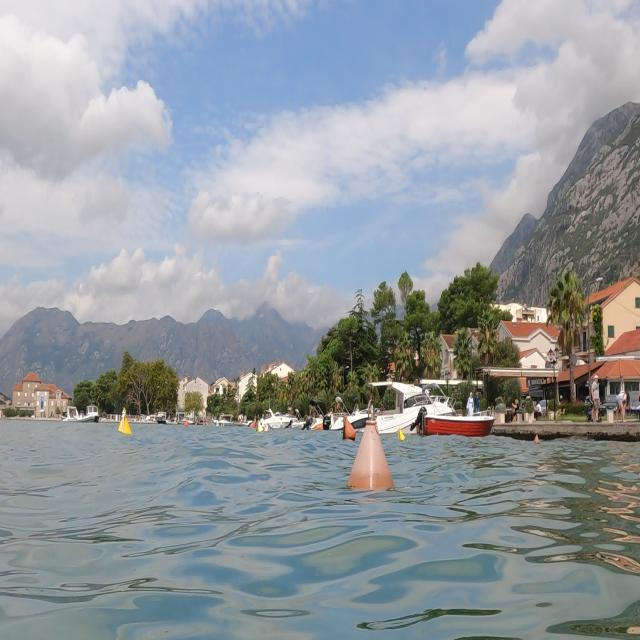boat: (370, 366, 464, 442), (416, 371, 498, 451), (249, 402, 309, 438), (54, 399, 104, 431)
buoy: (344, 401, 396, 499), (110, 401, 136, 440), (338, 414, 358, 446)
